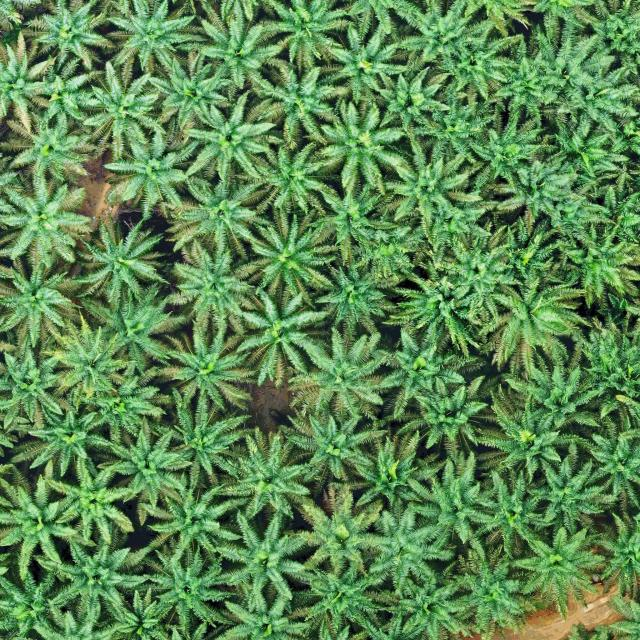Tree: (33, 521, 154, 630), (475, 272, 597, 377), (279, 322, 392, 426), (474, 392, 596, 486), (401, 451, 505, 561), (376, 320, 487, 422), (225, 284, 331, 389), (82, 284, 192, 381), (393, 374, 495, 478), (210, 506, 314, 608), (427, 218, 529, 320), (223, 419, 320, 525), (160, 172, 268, 266), (150, 325, 255, 417), (39, 456, 137, 554), (0, 178, 98, 276), (96, 416, 196, 512), (0, 465, 82, 582), (355, 498, 457, 592), (381, 136, 480, 232), (314, 96, 409, 196), (233, 212, 338, 302), (141, 542, 240, 637), (140, 473, 240, 567), (513, 522, 607, 622), (7, 390, 108, 483), (389, 270, 492, 361), (100, 123, 195, 220), (161, 241, 259, 333), (151, 396, 252, 484), (182, 89, 278, 181), (82, 60, 171, 158), (484, 148, 593, 228), (349, 426, 449, 513), (295, 482, 387, 576), (408, 80, 506, 168), (41, 308, 133, 401), (76, 215, 167, 308), (256, 61, 350, 150), (0, 103, 91, 193), (0, 252, 83, 350), (534, 26, 620, 118), (278, 407, 376, 486), (198, 6, 288, 92), (383, 0, 489, 73), (504, 349, 608, 423), (325, 20, 412, 108), (454, 550, 540, 639), (526, 448, 614, 534), (441, 16, 526, 104), (80, 366, 170, 446), (560, 220, 640, 310), (312, 181, 400, 262), (23, 0, 112, 80), (18, 52, 110, 129), (264, 0, 356, 75), (143, 50, 227, 132), (576, 310, 640, 415), (101, 0, 192, 73), (252, 137, 334, 217), (317, 258, 403, 334), (467, 110, 555, 183), (298, 560, 387, 632), (0, 340, 69, 432), (372, 63, 454, 139), (498, 206, 566, 294), (552, 114, 634, 184), (377, 576, 466, 640), (0, 563, 70, 640), (213, 587, 314, 640), (586, 509, 640, 603), (585, 422, 640, 512), (482, 472, 546, 549), (578, 184, 640, 252)
